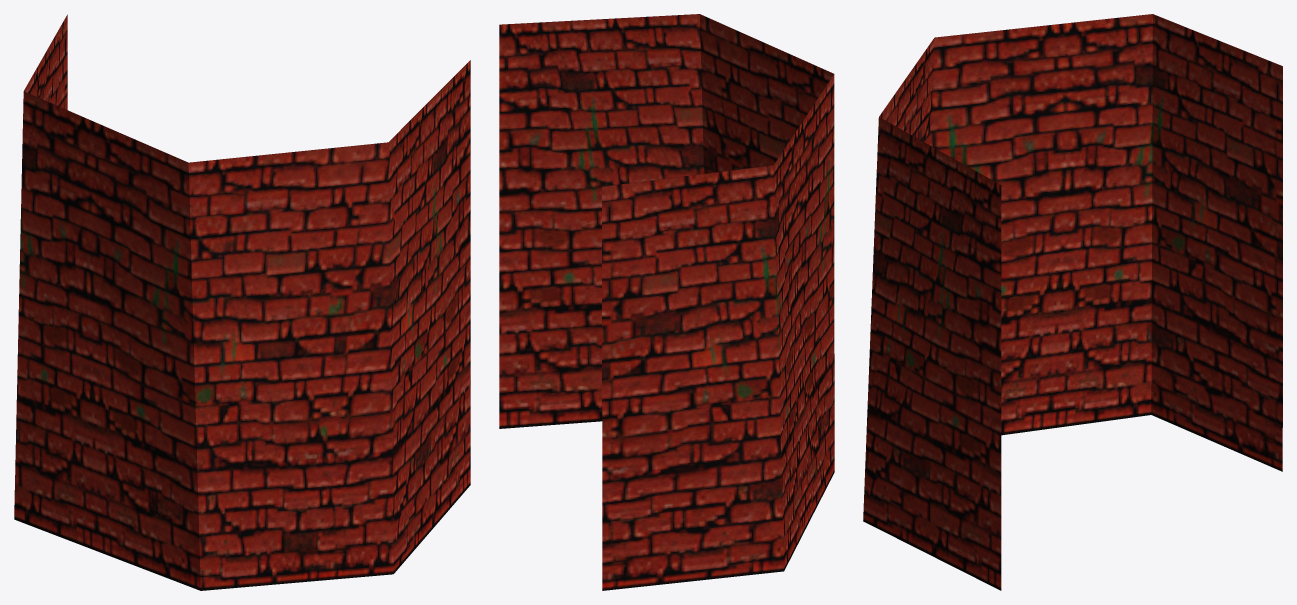
File: W_AI_Erker_xxxx_1210.glb
The picture shows the model from 3 angles, left to right: view 1: azimuth 30°, elevation 25°; view 2: azimuth 150°, elevation 25°; view 3: azimuth 270°, elevation 25°; orthographic projection. The views are drawn at different scales.
Parts seen in each view (by area): view 1: pPlaneShape2; view 2: pPlaneShape2; view 3: pPlaneShape2.
Part boxes in pixels (x1,y1,x2,y2): pPlaneShape2: [14, 14, 470, 590]; pPlaneShape2: [499, 14, 834, 590]; pPlaneShape2: [863, 14, 1282, 590].
Bounding box in the file's own units: 0.3243 × 0.3486 × 0.3268.
1 material, 1 textured.
